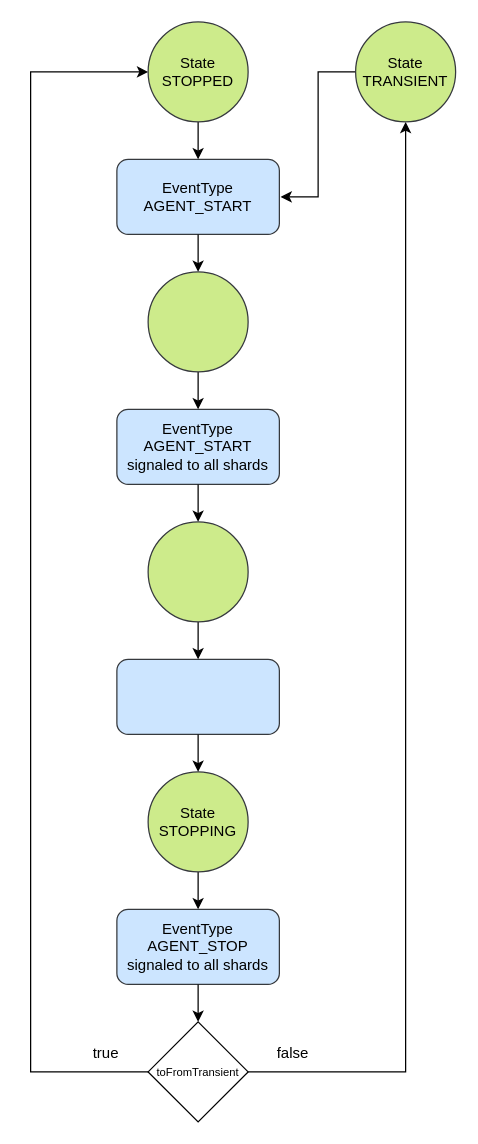
This 478x1144 diagram has some shape labels left out. Each missing label, with the centre of its shape:
"EventType AGENT_STOP" belongs at point (197, 696).
"State RUNNING" belongs at point (197, 571).
"State STARTING" belongs at point (197, 321).
